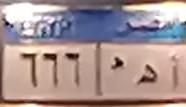6: (63, 51, 88, 84), (20, 53, 39, 88), (42, 53, 60, 86)
alif: (165, 52, 183, 90)
haa: (134, 61, 160, 92)
meem: (109, 53, 126, 86)
